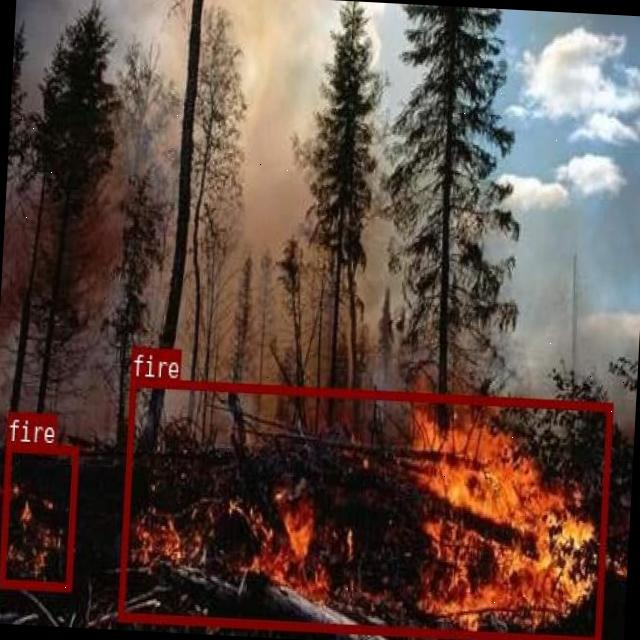fire: (117, 376, 611, 640), (0, 442, 78, 590)
